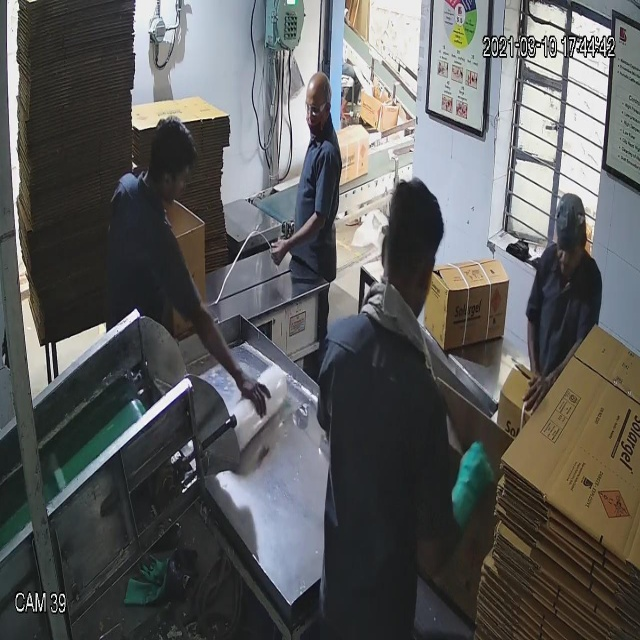Guantes: (443, 436, 500, 542)
Sin_guantes: (189, 292, 275, 432), (266, 211, 328, 269)
